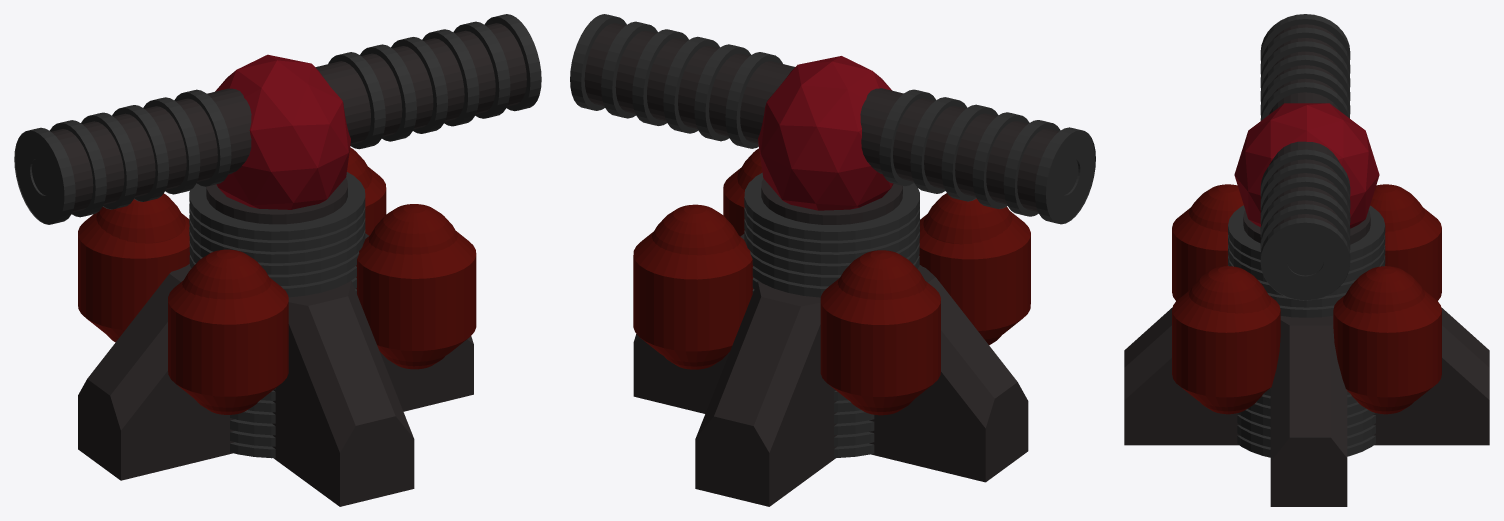
File: flamethrower.fbx
3 views of the same model, side by side, from view 1: azimuth 30°, elevation 25°; view 2: azimuth 150°, elevation 25°; view 3: azimuth 270°, elevation 25° (orthographic). The views are drawn at different scales.
Visible parts, largest first — view 1: Canisters, NozzleRings, BaseLegs, BaseLegs1, Nozzle, NozzleBase, BaseRings, BaseCylinder; view 2: Canisters, NozzleRings, BaseLegs, BaseLegs1, Nozzle, NozzleBase, BaseRings, BaseCylinder; view 3: Canisters, NozzleRings, BaseLegs, BaseLegs1, NozzleBase, BaseRings, Nozzle, BaseCylinder.
Part boxes in pixels (<box>): Canisters: <box>78,147,476,414</box>; NozzleRings: <box>14,14,541,224</box>; BaseLegs: <box>272,280,414,506</box>; BaseLegs1: <box>78,233,473,480</box>; Nozzle: <box>51,23,526,212</box>; NozzleBase: <box>215,54,350,209</box>; BaseRings: <box>189,172,365,458</box>; BaseCylinder: <box>206,178,347,224</box>; Canisters: <box>633,148,1030,415</box>; NozzleRings: <box>570,14,1095,224</box>; BaseLegs: <box>695,281,836,506</box>; BaseLegs1: <box>633,234,1028,482</box>; Nozzle: <box>584,23,1058,211</box>; NozzleBase: <box>758,56,893,210</box>; BaseRings: <box>744,172,919,457</box>; BaseCylinder: <box>761,178,902,224</box>; Canisters: <box>1172,184,1441,414</box>; NozzleRings: <box>1260,14,1350,300</box>; BaseLegs: <box>1124,307,1489,445</box>; BaseLegs1: <box>1270,315,1347,506</box>; NozzleBase: <box>1234,103,1379,228</box>; BaseRings: <box>1228,205,1385,457</box>; Nozzle: <box>1269,24,1340,230</box>; BaseCylinder: <box>1243,210,1370,244</box>.
Bounding box in the file's own units: 608 × 442 × 450.
